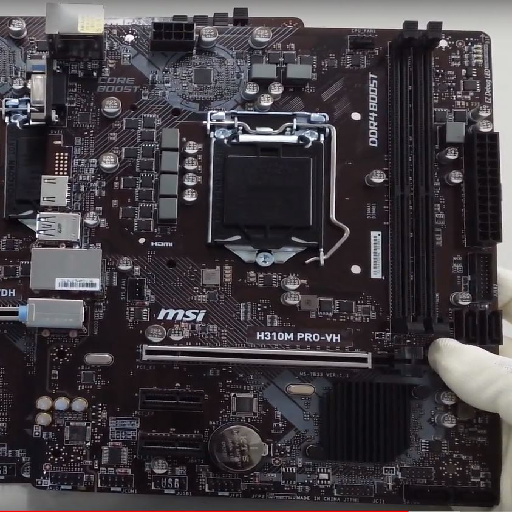CPU: (204, 113, 337, 267)
GPU: (138, 341, 419, 378)
MOTHERBOARD: (1, 7, 503, 502)
RAM: (385, 22, 445, 333)
